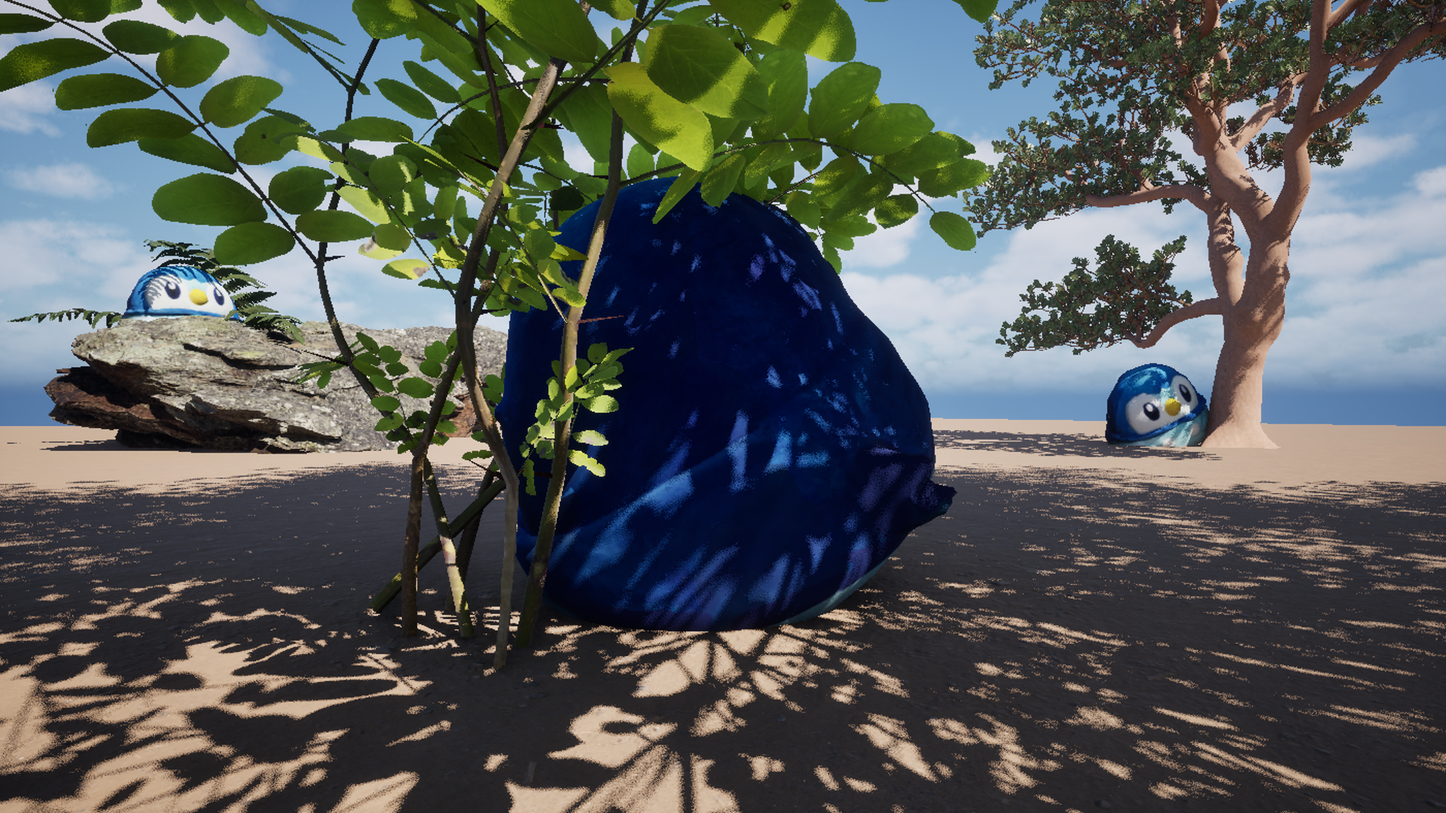Piplup: (325, 0, 1102, 813)
